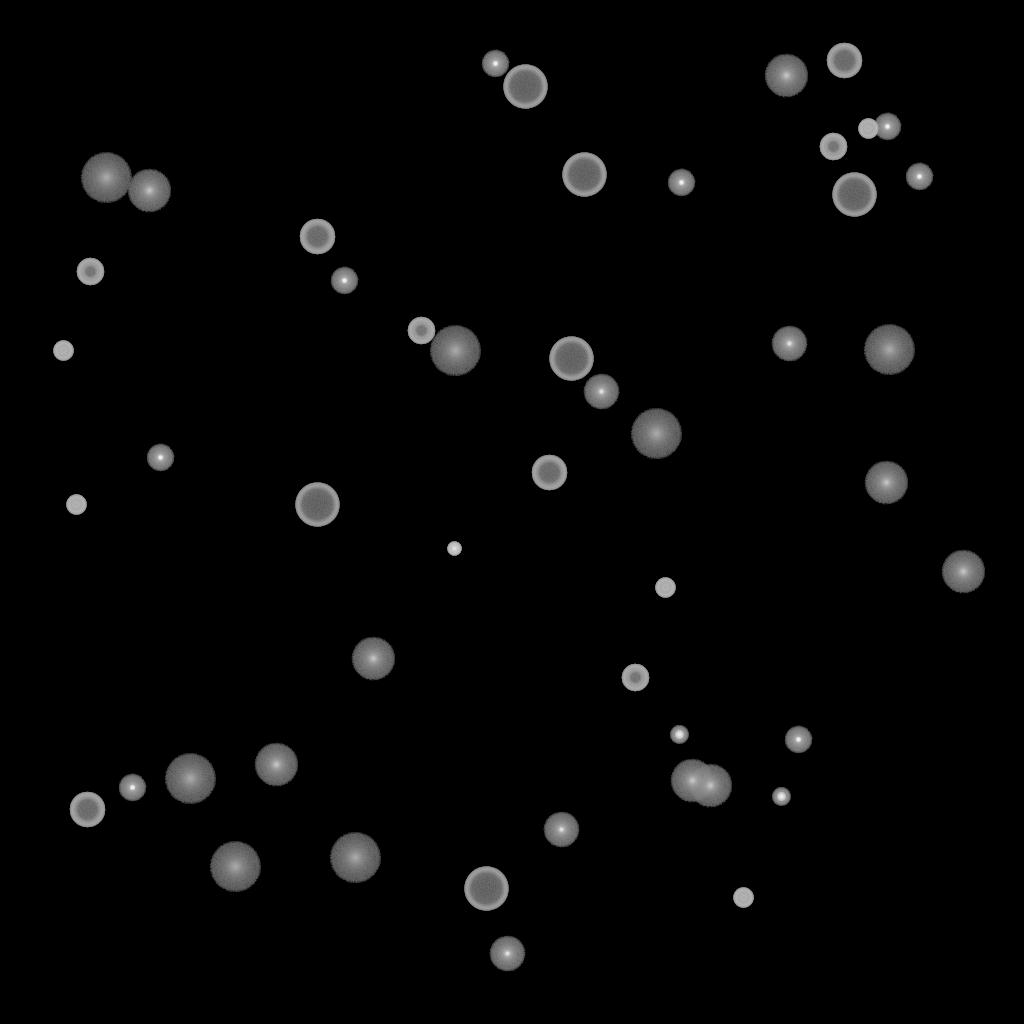depth:-10: (330, 267, 358, 295), (873, 113, 901, 141), (667, 169, 695, 197), (784, 726, 812, 754), (905, 163, 933, 191), (481, 50, 509, 78), (146, 444, 174, 472), (118, 774, 146, 802)
depth:-20: (772, 788, 790, 806), (670, 726, 688, 744)
depth:-30: (447, 542, 461, 556)
depth:-40: (53, 341, 73, 361), (733, 888, 753, 908), (66, 495, 86, 515), (858, 119, 878, 139), (655, 578, 675, 598)
depth:-50: (621, 664, 649, 692), (407, 317, 435, 345), (819, 133, 847, 161), (76, 258, 104, 286)
depth:-60: (299, 219, 335, 255), (69, 792, 105, 828), (531, 455, 567, 491), (826, 43, 862, 79)
depth:-70: (503, 65, 547, 109), (562, 153, 606, 197), (832, 173, 876, 217), (464, 867, 508, 911), (295, 483, 339, 527), (549, 337, 593, 381)
depth:0: (543, 812, 579, 848), (583, 374, 619, 410), (489, 936, 525, 972), (771, 326, 807, 362)
depth:10: (941, 550, 985, 594), (254, 743, 298, 787), (351, 637, 395, 681), (127, 169, 171, 213), (670, 759, 714, 803), (864, 461, 908, 505), (764, 54, 808, 98), (688, 764, 732, 808)
depth:20: (329, 833, 381, 883), (630, 409, 682, 459), (80, 153, 132, 203), (164, 754, 216, 804), (209, 842, 261, 892), (429, 326, 481, 376), (863, 325, 915, 375)
